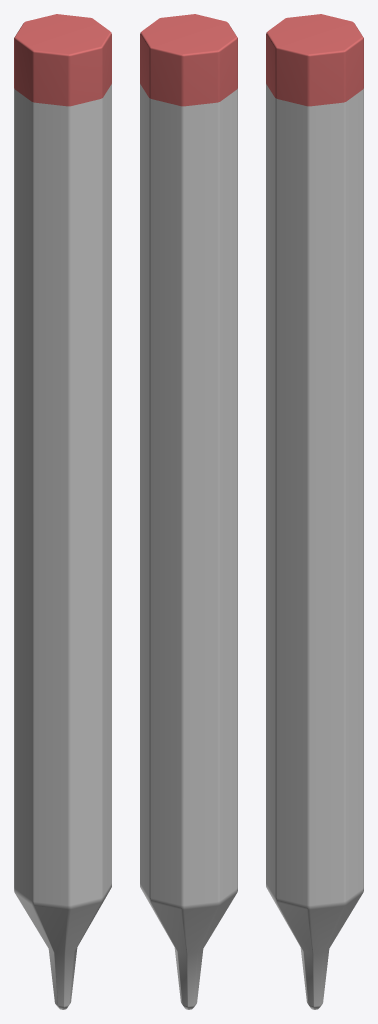
Rendered from marker2.fbx.
The picture shows the model from 3 angles, left to right: view 1: azimuth 30°, elevation 25°; view 2: azimuth 150°, elevation 25°; view 3: azimuth 330°, elevation 25°; orthographic projection.
Parts seen in each view (by area): view 1: pen; view 2: pen; view 3: pen.
Boxes of the visible parts, x1,y1,x2,y2 form: pen: (14,14,111,1009); pen: (140,14,237,1009); pen: (266,14,363,1009).
Size of the model in its own units: 0.0131 by 0.1532 by 0.0131.
